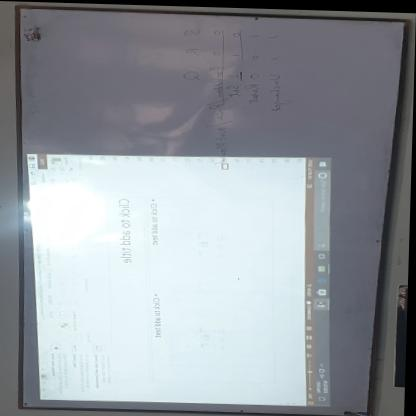Handwritten text: (178, 26, 207, 79), (265, 70, 296, 111), (212, 125, 234, 167), (205, 64, 227, 96), (243, 80, 263, 102), (207, 101, 230, 118), (225, 81, 244, 97)
Whiteboard: (4, 6, 409, 416)
